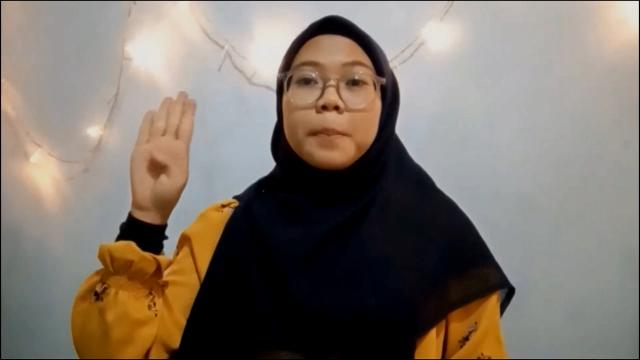B: (129, 90, 197, 208)
